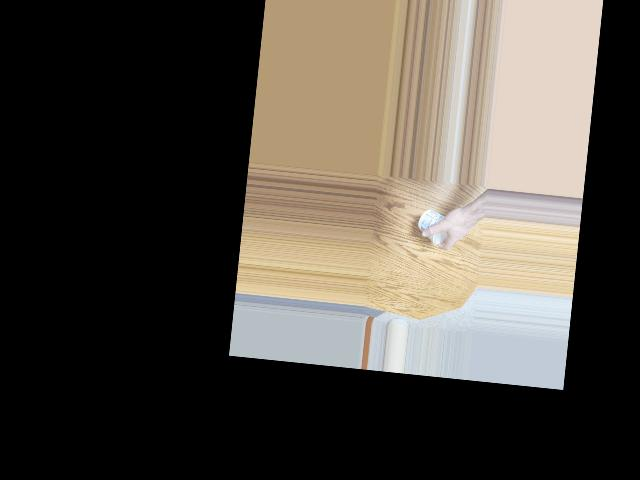cotage: (415, 205, 449, 247)
